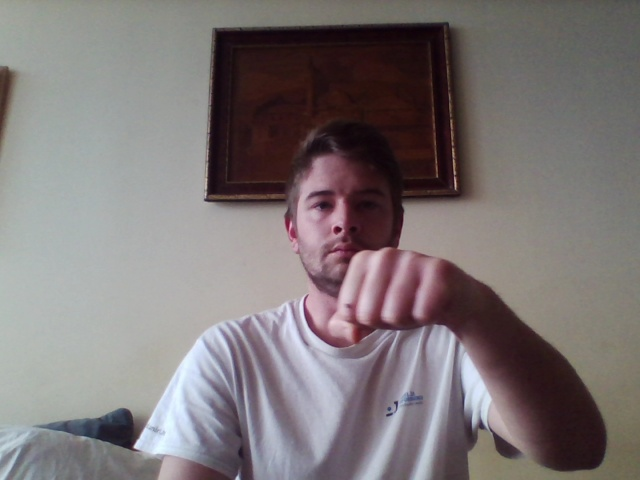da: (328, 246, 464, 345)
